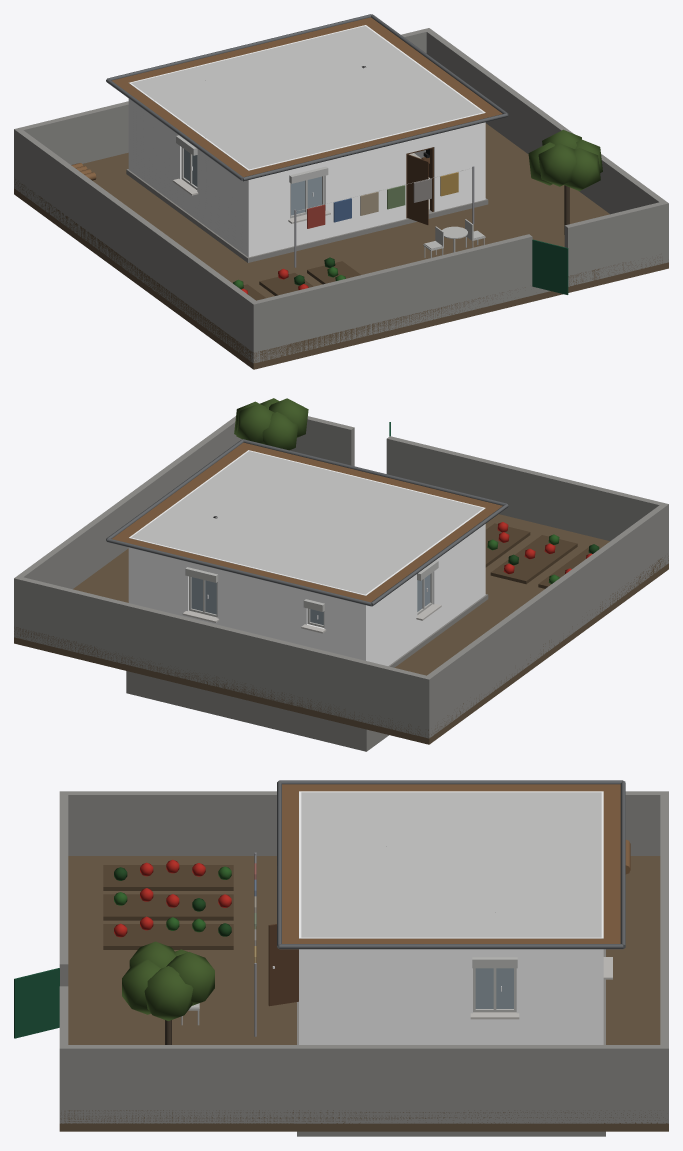
Rendered from bina_10_ic.glb.
3 views of the same model, one above another, from view 1: azimuth 30°, elevation 25°; view 2: azimuth 150°, elevation 25°; view 3: azimuth 270°, elevation 25° (orthographic). The views are drawn at different scales.
Visible parts, largest first — view 1: P10_ic; view 2: P10_ic; view 3: P10_ic.
Boxes of the visible parts, left/top/right/bottom form: P10_ic: left=14, top=14, right=668, bottom=369; P10_ic: left=14, top=398, right=668, bottom=751; P10_ic: left=14, top=780, right=668, bottom=1136.
Size of the model in its own units: 14 by 5.2 by 15.05.
